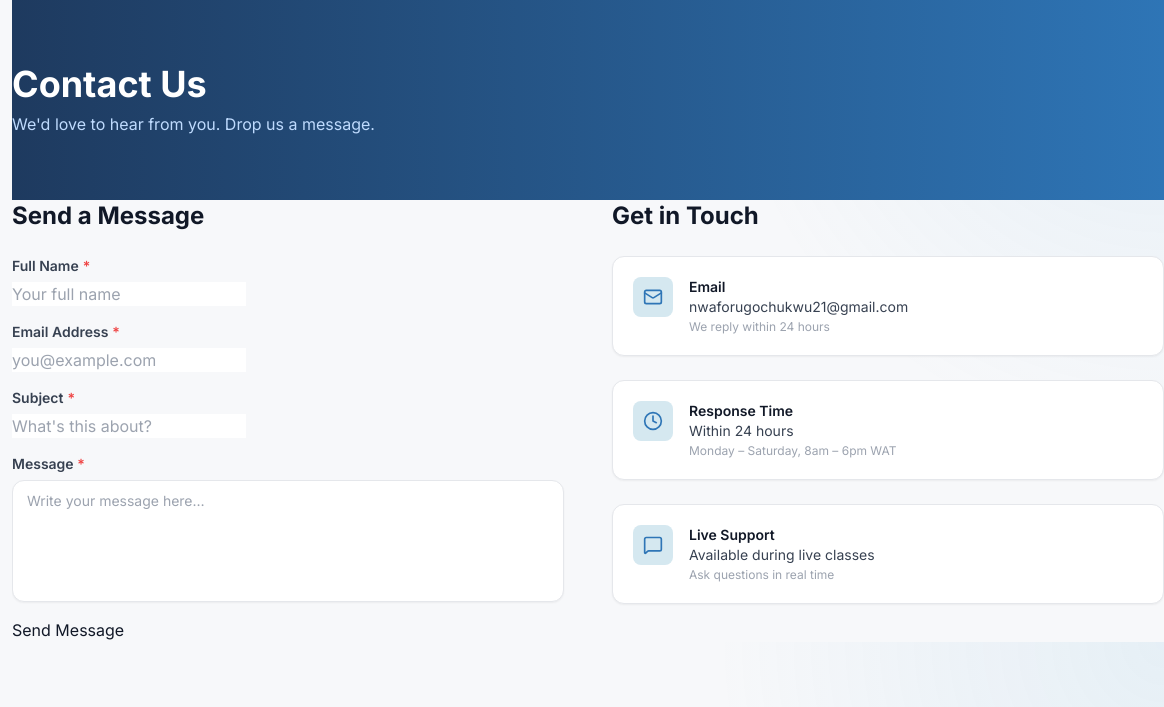
Test: ContactPage › shows validation errors when submitting an empty form
This screenshot has width=1164, height=707.
Click the button "Send Message" at coordinates (68, 630), box [12,618,124,642]
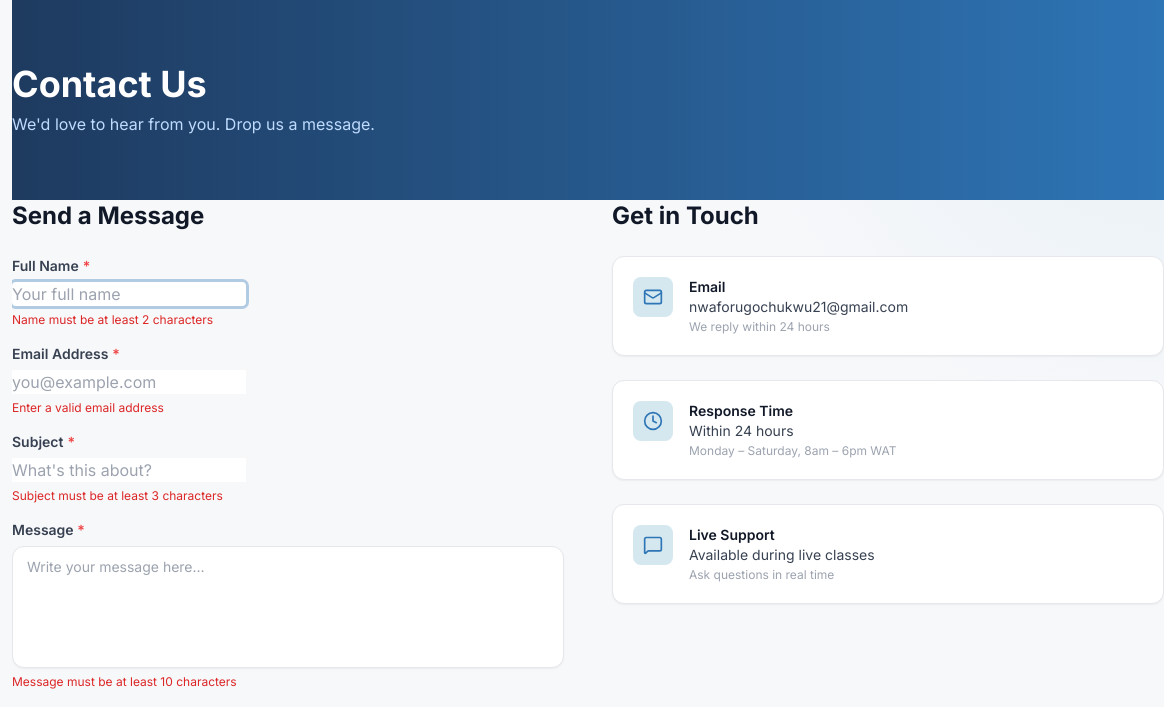
Now the text "Name must be at least 2 characters" is shown, box [12,312,213,327]
Now the text "Enter a valid email address" is shown, box [12,400,164,415]
